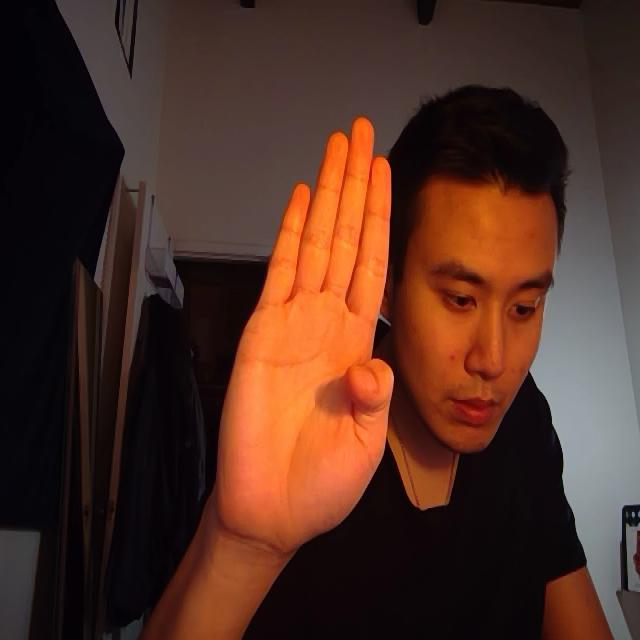B: (202, 83, 413, 556)
